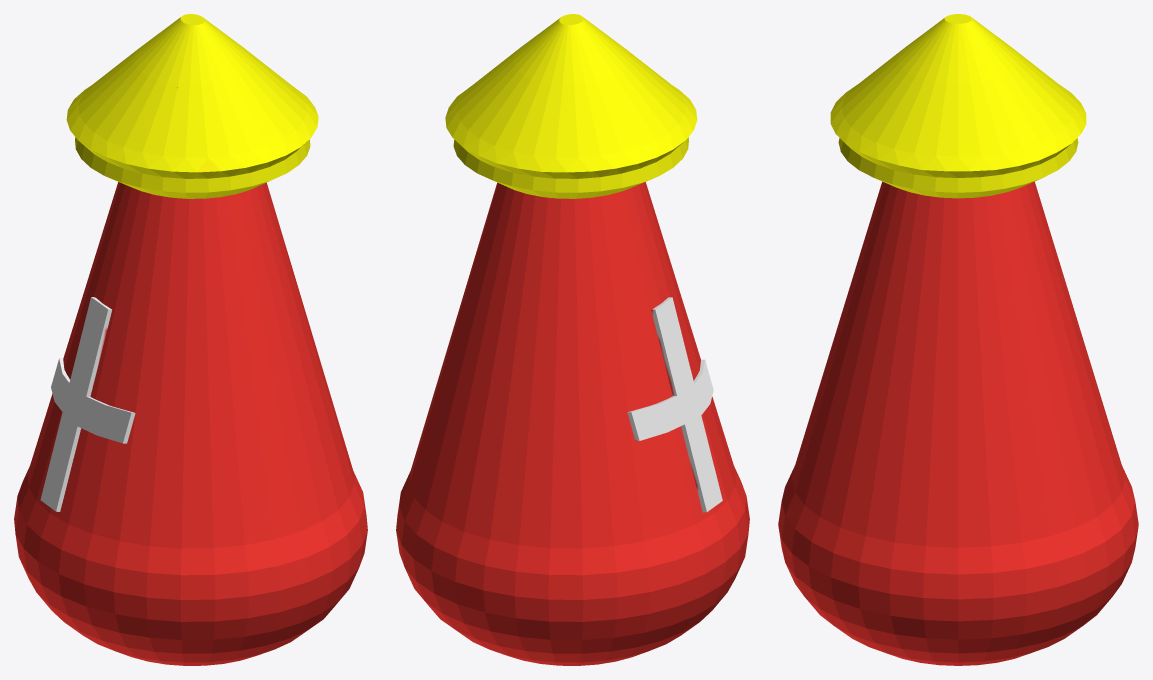
File: hppotion.gltf
3 views of the same model, side by side, from view 1: azimuth 30°, elevation 25°; view 2: azimuth 150°, elevation 25°; view 3: azimuth 270°, elevation 25° (orthographic).
Parts seen in each view (by area): view 1: Sphere.001; view 2: Sphere.001; view 3: Sphere.001.
Part boxes in pixels (x1,y1,x2,y2): Sphere.001: (14, 14, 367, 665); Sphere.001: (396, 14, 749, 665); Sphere.001: (778, 14, 1138, 665).
Size of the model in its own units: 1.18 by 2.3 by 1.2.
Materials: 1 (1 with a texture image).
